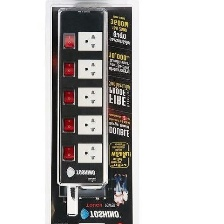book: (44, 0, 141, 224)
three_eye_plug: (52, 6, 107, 191)
